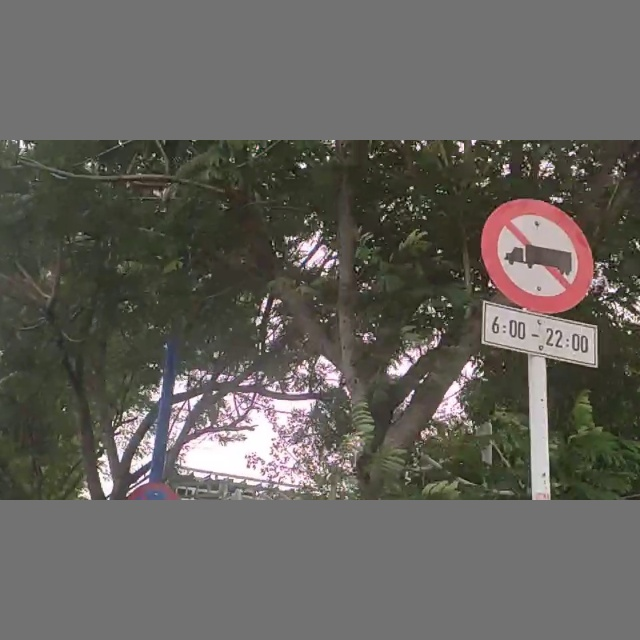B.8a: (472, 199, 607, 365)
